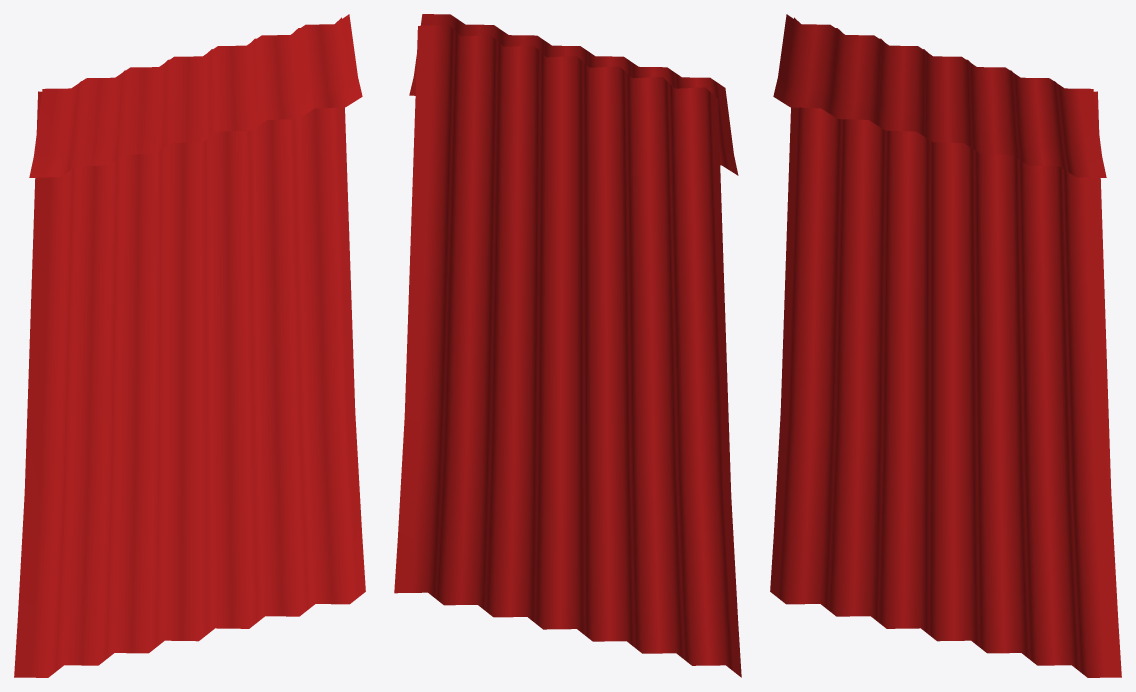
The picture shows the model from 3 angles, left to right: view 1: azimuth 30°, elevation 25°; view 2: azimuth 150°, elevation 25°; view 3: azimuth 330°, elevation 25°; orthographic projection.
Parts seen in each view (by area): view 1: Geode; view 2: Geode; view 3: Geode.
Boxes of the visible parts, x1=… form: Geode: x1=14, y1=14, x2=365, y2=677; Geode: x1=394, y1=14, x2=741, y2=677; Geode: x1=770, y1=14, x2=1121, y2=677.
Bounding box in the file's own units: 0.6862 × 1.1 × 0.0429.
